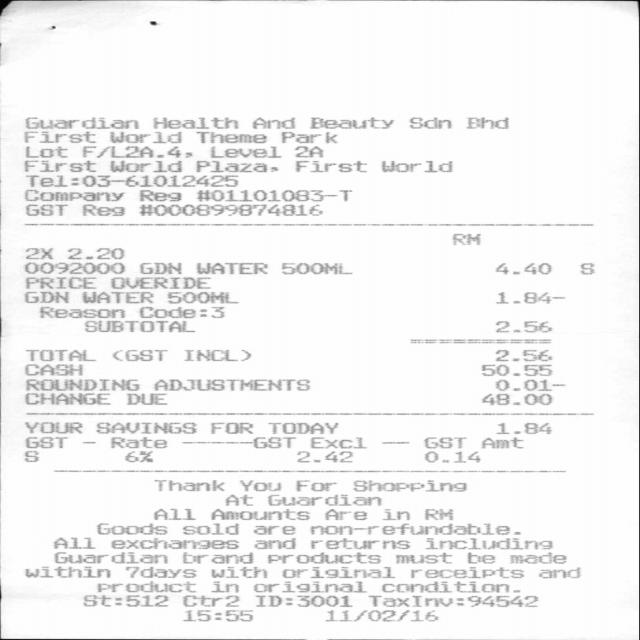text: (23, 174, 235, 186), (308, 523, 520, 534), (138, 204, 321, 215), (366, 595, 536, 606), (195, 189, 350, 201), (153, 379, 308, 390), (423, 537, 551, 549), (381, 581, 518, 592), (352, 479, 464, 491), (410, 566, 522, 578), (83, 320, 194, 332), (110, 538, 236, 548), (24, 379, 138, 390), (23, 117, 136, 128), (280, 566, 393, 577), (323, 610, 436, 621), (267, 494, 379, 505), (54, 552, 166, 563), (267, 552, 379, 563), (252, 581, 364, 592), (23, 262, 123, 274), (110, 276, 210, 288), (308, 537, 408, 549), (81, 146, 190, 157), (95, 580, 194, 592), (24, 189, 122, 201), (210, 508, 308, 520), (94, 422, 194, 433), (253, 595, 350, 606), (38, 306, 123, 318), (137, 306, 222, 318), (24, 392, 109, 404), (194, 160, 276, 172), (152, 117, 237, 128), (307, 117, 392, 128), (24, 566, 109, 577), (83, 595, 167, 606), (194, 262, 266, 274), (194, 131, 265, 143), (23, 160, 94, 172), (294, 160, 365, 172), (379, 160, 450, 172), (279, 262, 350, 274), (23, 276, 94, 288), (81, 291, 152, 303), (166, 291, 237, 303), (23, 349, 94, 361), (480, 393, 551, 405), (110, 131, 180, 143), (110, 160, 180, 172), (494, 291, 564, 303), (266, 422, 336, 434), (154, 479, 223, 491), (22, 131, 94, 142), (183, 349, 249, 361), (479, 364, 550, 375), (493, 379, 563, 390), (96, 523, 166, 534), (182, 552, 252, 563), (124, 566, 194, 577), (181, 610, 251, 621), (210, 146, 279, 157), (493, 320, 551, 332), (67, 247, 123, 259), (494, 262, 550, 274), (110, 349, 166, 361), (494, 349, 550, 361), (494, 422, 550, 434), (280, 131, 335, 143), (23, 364, 83, 375), (309, 436, 364, 448), (110, 436, 164, 448), (393, 552, 450, 563), (24, 422, 80, 433), (295, 451, 351, 462), (423, 451, 479, 462), (508, 552, 564, 563), (182, 595, 238, 606), (182, 523, 236, 534), (210, 566, 264, 577), (22, 290, 67, 302), (479, 436, 522, 448), (408, 116, 450, 128), (24, 436, 66, 448), (422, 436, 464, 448), (324, 508, 365, 520), (139, 262, 179, 274), (465, 117, 508, 128), (250, 117, 293, 128), (251, 437, 294, 448), (24, 146, 66, 157), (138, 190, 180, 201), (24, 204, 66, 215), (81, 204, 123, 215), (209, 422, 251, 433), (237, 480, 279, 491), (152, 508, 193, 519), (53, 537, 94, 548), (124, 393, 164, 404), (538, 567, 578, 578), (295, 480, 334, 491), (252, 538, 294, 548), (252, 525, 293, 534), (422, 508, 451, 520), (451, 233, 478, 245), (24, 247, 51, 259), (292, 146, 321, 157), (124, 450, 150, 462), (382, 508, 408, 520), (223, 494, 250, 505), (466, 552, 493, 563), (209, 581, 236, 592), (580, 262, 593, 274), (24, 451, 37, 462)
